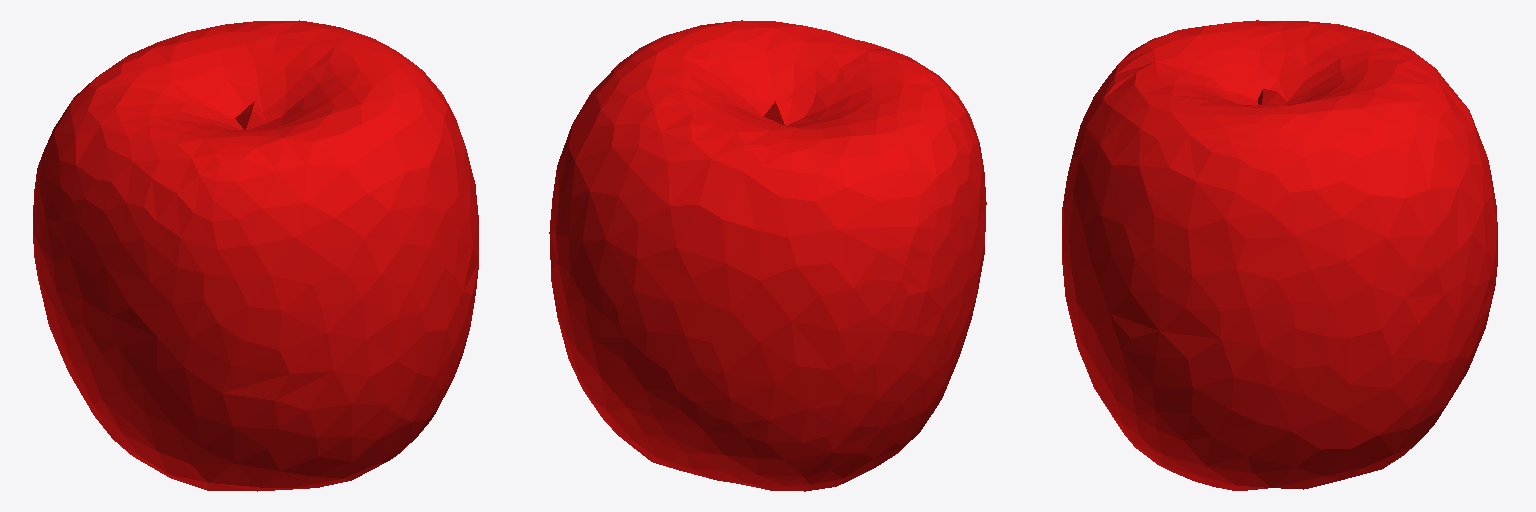
URDF robot description (apple):
<?xml version="1.0"?>
<robot name="apple">
  <link name="base_link_apple">
    <inertial>
      <origin xyz="0 0 0.035" rpy="0 0 0" />
      <mass value="0.1" />
      <inertia ixx="0.000363" ixy="0" ixz="0" iyy="0.000363" iyz="0"
          izz="0.00006" />
    </inertial>
    <visual>
      <origin xyz="0 0 0" rpy="0 0 0" />
      <geometry>
        <mesh filename="apple_1200_faces.obj"/>
      </geometry>
      <material name="red">
        <color rgba="0.9 0.1 0.1 0.9" />
      </material>
    </visual>

    <collision>
      <geometry>
        <mesh filename="apple_1200_faces.obj"/>
      </geometry>
    </collision>


   </link>
</robot>

--- Render facts (derived) ---
3 views of the same robot in one strip: view 1: azimuth 30°, elevation 25°; view 2: azimuth 150°, elevation 25°; view 3: azimuth 270°, elevation 25° (orthographic).
Robot: apple — 1 links, 0 joints (none); root link base_link_apple; default pose: all joints at 0.
Visible links, largest first — view 1: base_link_apple; view 2: base_link_apple; view 3: base_link_apple.
Link boxes in pixels (<box>): base_link_apple: <box>33,20,478,491</box>; base_link_apple: <box>549,20,986,491</box>; base_link_apple: <box>1062,20,1497,490</box>.
Size in the robot's own frame: 0.0754 by 0.0748 by 0.072 metres.
Meshes: 1 distinct files referenced, 1 mesh visuals loaded (1 OBJ).
